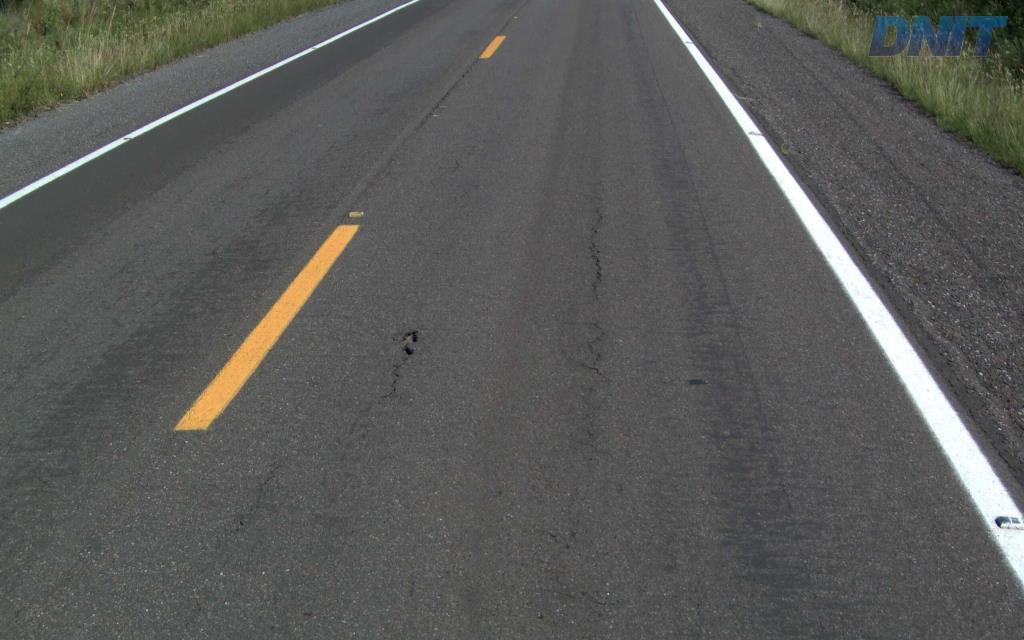pothole: (400, 324, 418, 356)
